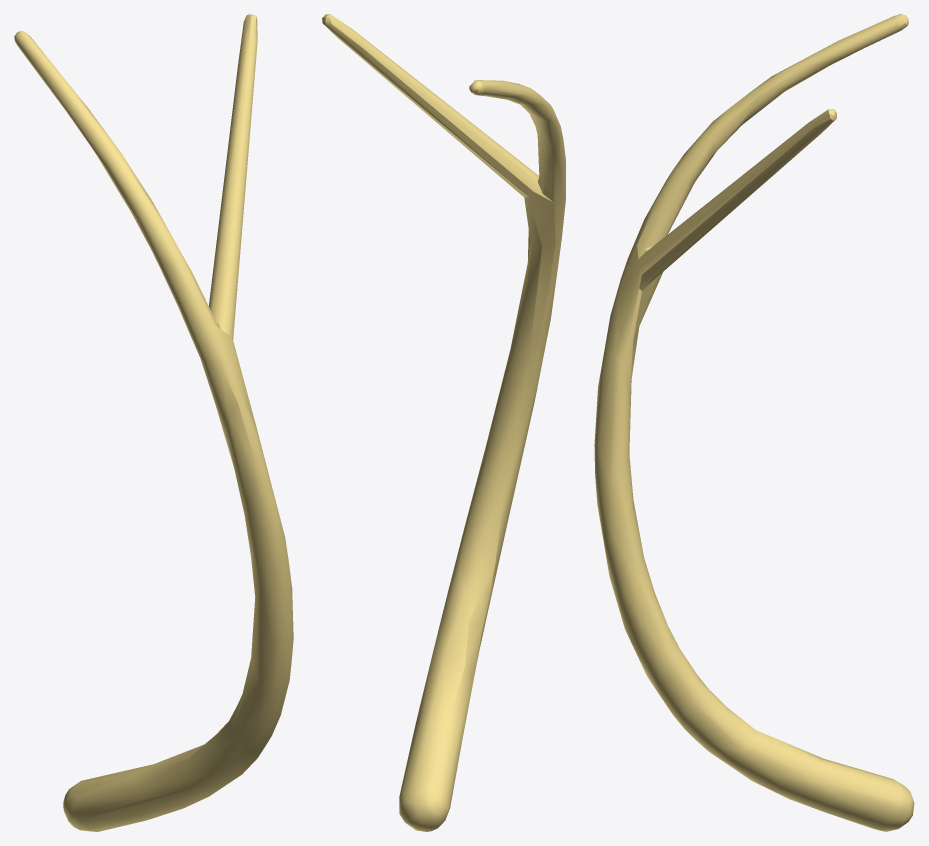
File: fma52987_fj3905.glb
3 renders of one model, left to right at view 1: azimuth 30°, elevation 25°; view 2: azimuth 150°, elevation 25°; view 3: azimuth 270°, elevation 25°, orthographic. The views are drawn at different scales.
Visible parts, largest first — view 1: FMA52987_FJ3905; view 2: FMA52987_FJ3905; view 3: FMA52987_FJ3905.
Part boxes in pixels (box(x1,y1,x2,y2)): FMA52987_FJ3905: box(14, 14, 293, 831); FMA52987_FJ3905: box(322, 14, 565, 831); FMA52987_FJ3905: box(594, 14, 914, 831).
Size of the model in its own units: 0.00421 by 0.0158 by 0.00585.
